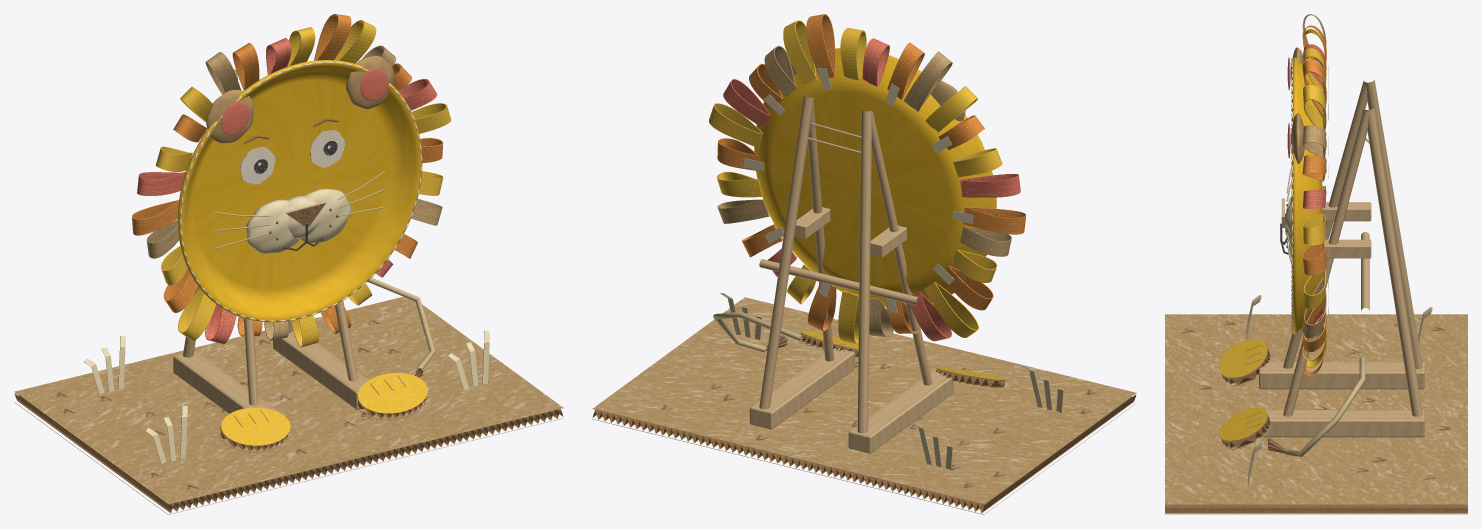
File: 27_paper_plate_lion.glb
The picture shows the model from 3 angles, left to right: view 1: azimuth 30°, elevation 25°; view 2: azimuth 150°, elevation 25°; view 3: azimuth 270°, elevation 25°; orthographic projection.
Parts seen in each view (by area): view 1: artwork_27_paper_plate_lion, paint_yellow, yellow, wood_light, orange, coral, flute, clay_cream, sand, paper, cream, paint_sand (+3 smaller); view 2: artwork_27_paper_plate_lion, paint_yellow, wood_light, yellow, orange, sand, flute, coral, tape, cream, edge, twine; view 3: artwork_27_paper_plate_lion, wood_light, flute, paint_yellow, yellow, orange, sand, twine, edge, coral, paint_sand, cream (+1 smaller).
Part boxes in pixels (x1,y1,x2,y2): artwork_27_paper_plate_lion: [15, 296, 563, 503]; paint_yellow: [177, 60, 422, 322]; yellow: [155, 20, 451, 347]; wood_light: [173, 66, 368, 413]; orange: [132, 14, 443, 336]; coral: [137, 38, 437, 344]; flute: [14, 393, 563, 513]; clay_cream: [246, 188, 351, 253]; sand: [146, 45, 442, 340]; paper: [180, 61, 422, 321]; cream: [83, 330, 489, 464]; paint_sand: [206, 56, 393, 143]; artwork_27_paper_plate_lion: [593, 297, 1135, 503]; paint_yellow: [754, 48, 996, 306]; wood_light: [749, 95, 953, 453]; yellow: [709, 20, 1002, 344]; orange: [717, 14, 1026, 333]; sand: [717, 45, 1011, 337]; flute: [592, 333, 1136, 513]; coral: [723, 38, 1020, 341]; tape: [743, 68, 973, 312]; cream: [720, 293, 1063, 469]; edge: [592, 68, 1136, 514]; twine: [713, 122, 861, 352]; artwork_27_paper_plate_lion: [1165, 314, 1467, 504]; wood_light: [1259, 79, 1424, 437]; flute: [1165, 348, 1467, 513]; paint_yellow: [1292, 57, 1322, 334]; yellow: [1302, 28, 1326, 368]; orange: [1302, 25, 1326, 376]; sand: [1302, 14, 1326, 340]; twine: [1284, 111, 1376, 456]; edge: [1165, 65, 1467, 514]; coral: [1287, 44, 1326, 347]; paint_sand: [1291, 47, 1304, 163]; cream: [1245, 295, 1432, 486].
Size of the model in its own units: 0.46 by 0.4309 by 0.31.
Materials: 19 (17 with a texture image).
